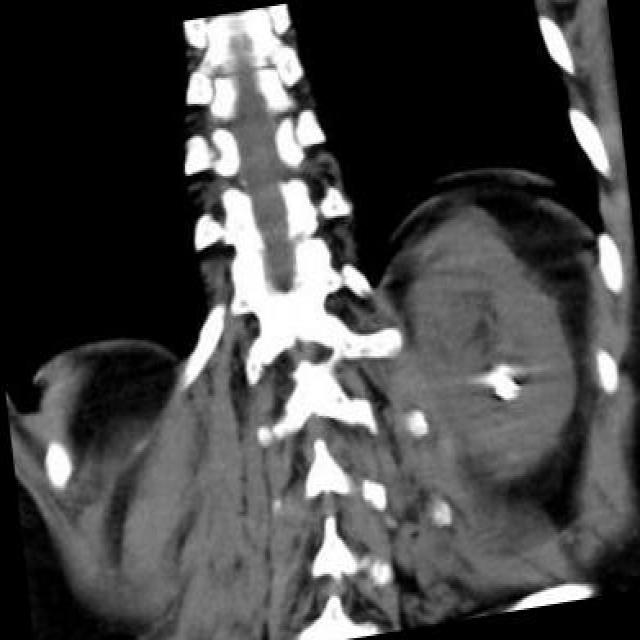Tas_Var: (485, 370, 518, 400), (504, 375, 522, 391), (498, 360, 512, 374)
